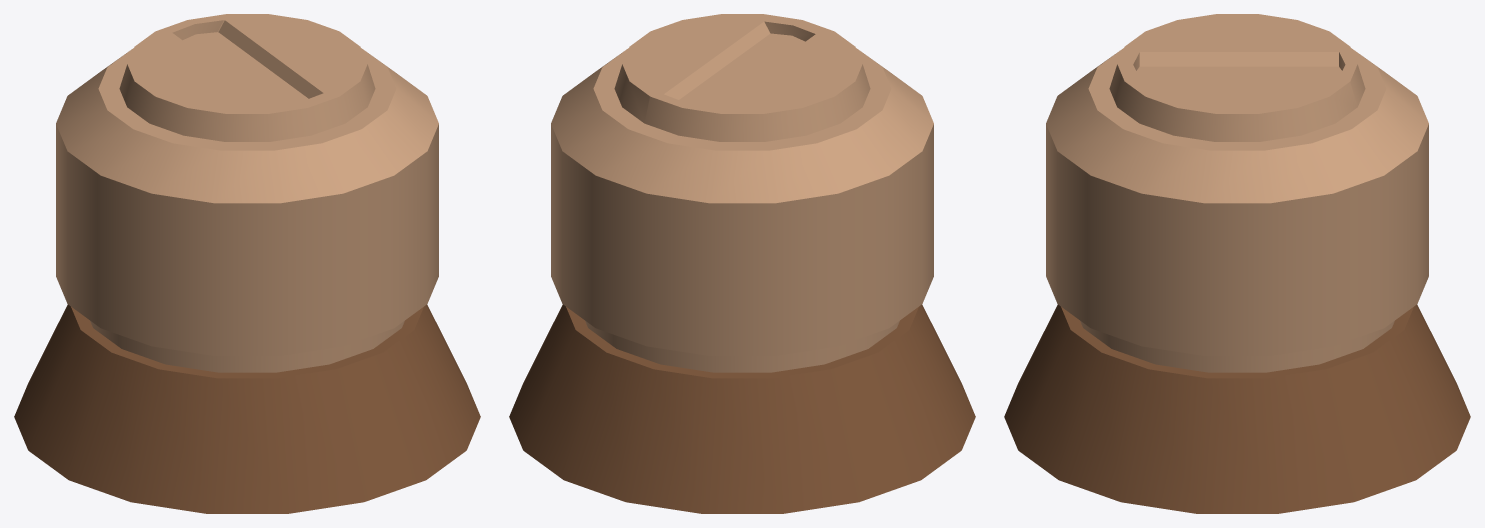
Rendered from quaternius-ultimate-space-pack-roof-opening-transformed.glb.
3 views of the same model, side by side, from view 1: azimuth 30°, elevation 25°; view 2: azimuth 150°, elevation 25°; view 3: azimuth 270°, elevation 25° (orthographic).
Visible parts, largest first — view 1: Roof_Opening; view 2: Roof_Opening; view 3: Roof_Opening.
Boxes of the visible parts, box(x1,y1,x2,y2) form: Roof_Opening: box(14, 14, 480, 513); Roof_Opening: box(509, 14, 975, 513); Roof_Opening: box(1004, 14, 1470, 513).
Bounding box in the file's own units: 1.41 × 1.2 × 1.43.
1 material, 1 textured.
